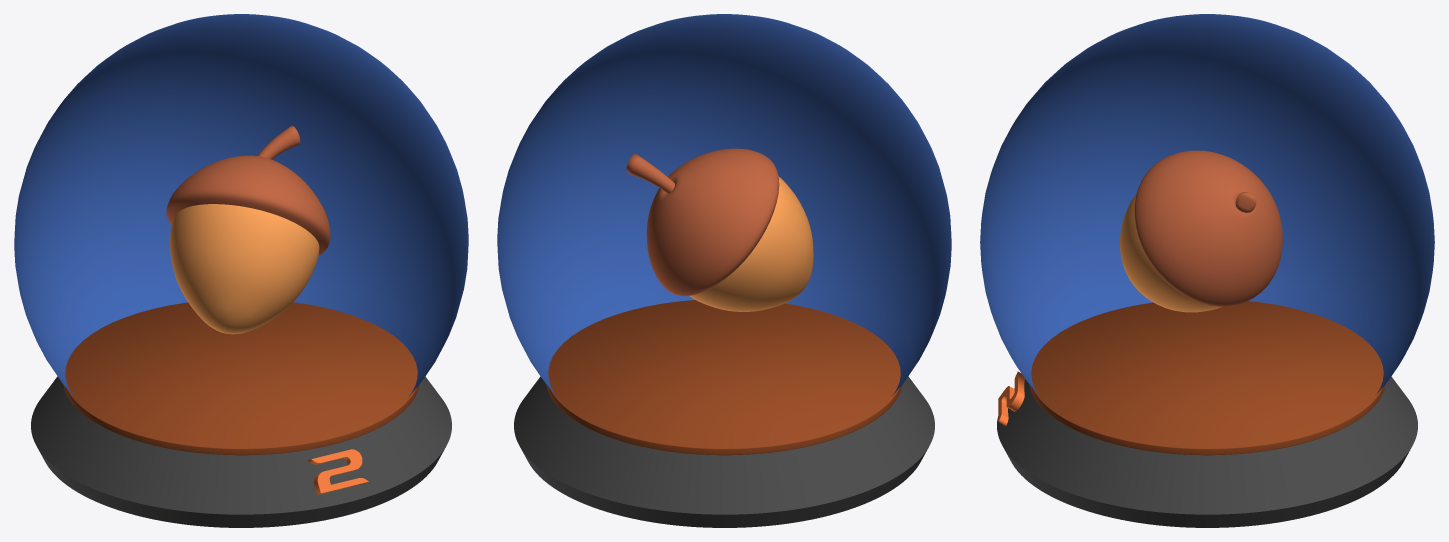
Rendered from Curio_02.glb.
The picture shows the model from 3 angles, left to right: view 1: azimuth 30°, elevation 25°; view 2: azimuth 150°, elevation 25°; view 3: azimuth 270°, elevation 25°; orthographic projection.
Parts seen in each view (by area): view 1: Sphere.011, Sphere.010, Sphere.009, Cylinder.024, Text.005; view 2: Sphere.011, Sphere.010, Sphere.009, Cylinder.024; view 3: Sphere.011, Sphere.010, Sphere.009, Cylinder.024, Text.005.
Part boxes in pixels (left/top/right/bottom): Sphere.011: left=14, top=14, right=468, bottom=397; Sphere.010: left=63, top=302, right=419, bottom=455; Sphere.009: left=31, top=376, right=451, bottom=527; Cylinder.024: left=166, top=126, right=330, bottom=334; Text.005: left=307, top=449, right=368, bottom=494; Sphere.011: left=497, top=14, right=951, bottom=397; Sphere.010: left=546, top=300, right=902, bottom=455; Sphere.009: left=514, top=376, right=934, bottom=527; Cylinder.024: left=626, top=148, right=813, bottom=311; Sphere.011: left=980, top=14, right=1434, bottom=395; Sphere.010: left=1029, top=301, right=1385, bottom=455; Sphere.009: left=997, top=376, right=1417, bottom=527; Cylinder.024: left=1120, top=150, right=1282, bottom=312; Text.005: left=998, top=371, right=1024, bottom=426.
Size of the model in its own units: 4.66 by 4.62 by 4.66.
